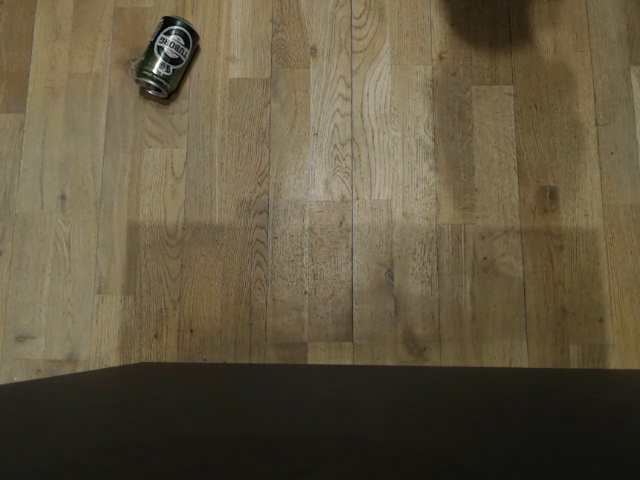beer: (131, 12, 202, 101)
